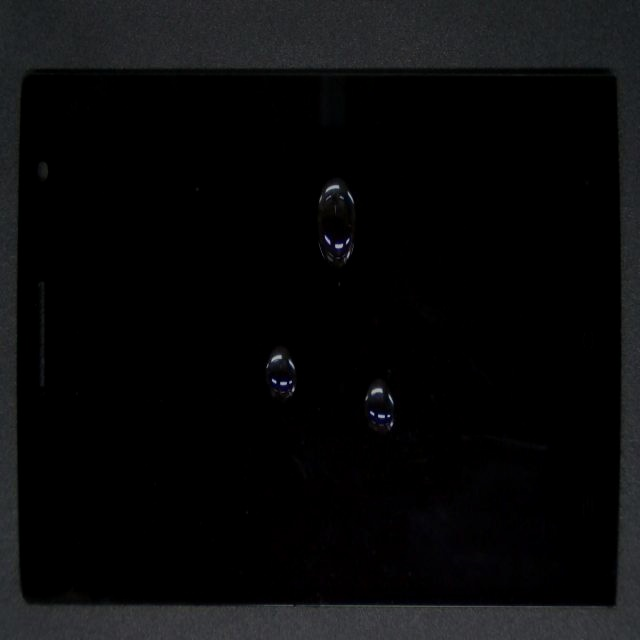oil: (211, 219, 584, 583), (140, 143, 393, 532), (136, 83, 468, 360)
